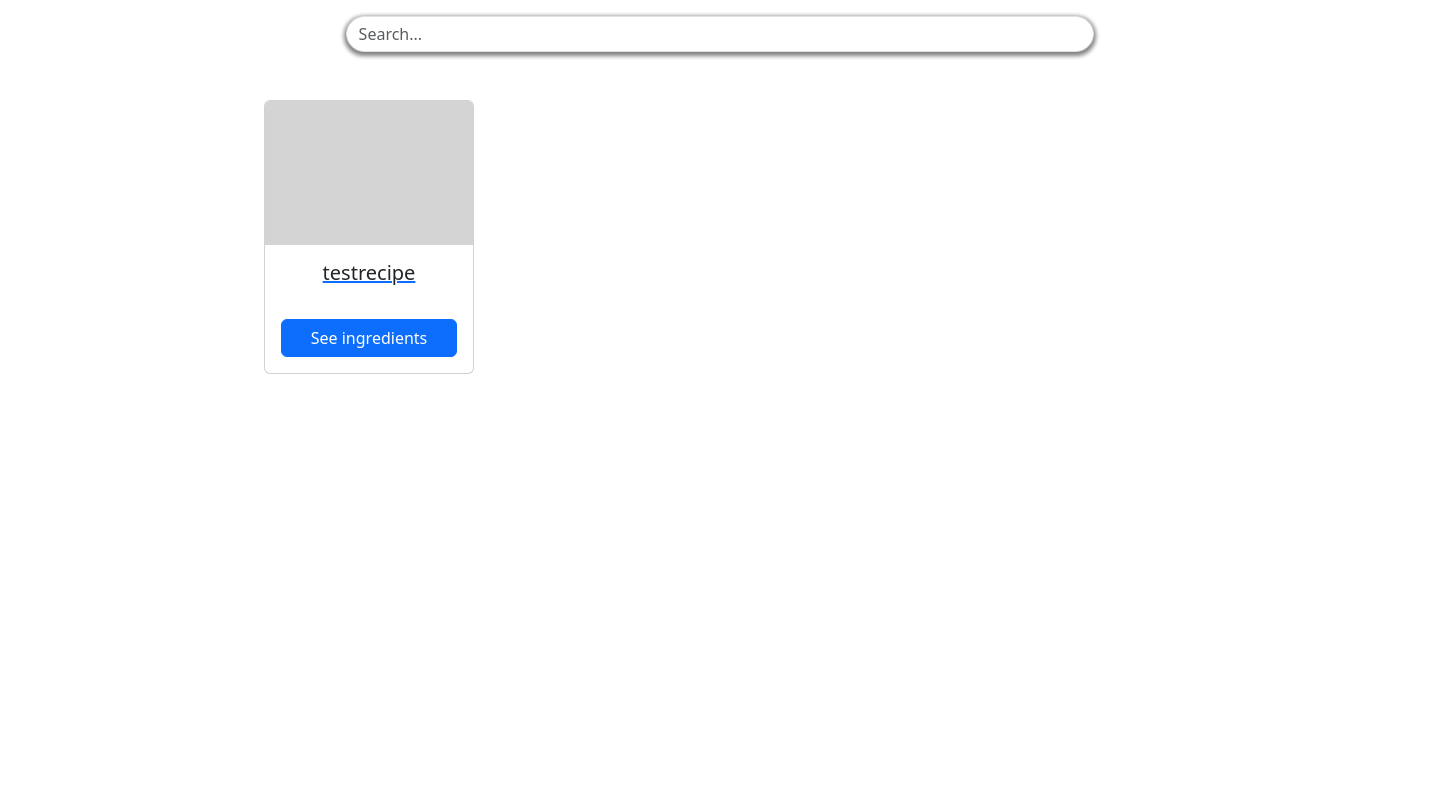
Test: Pressing See Ingredients should display the list of ingredients.
The image size is (1452, 810).
Click the button "See ingredients".
click(369, 338)  # box [281,319,457,357]
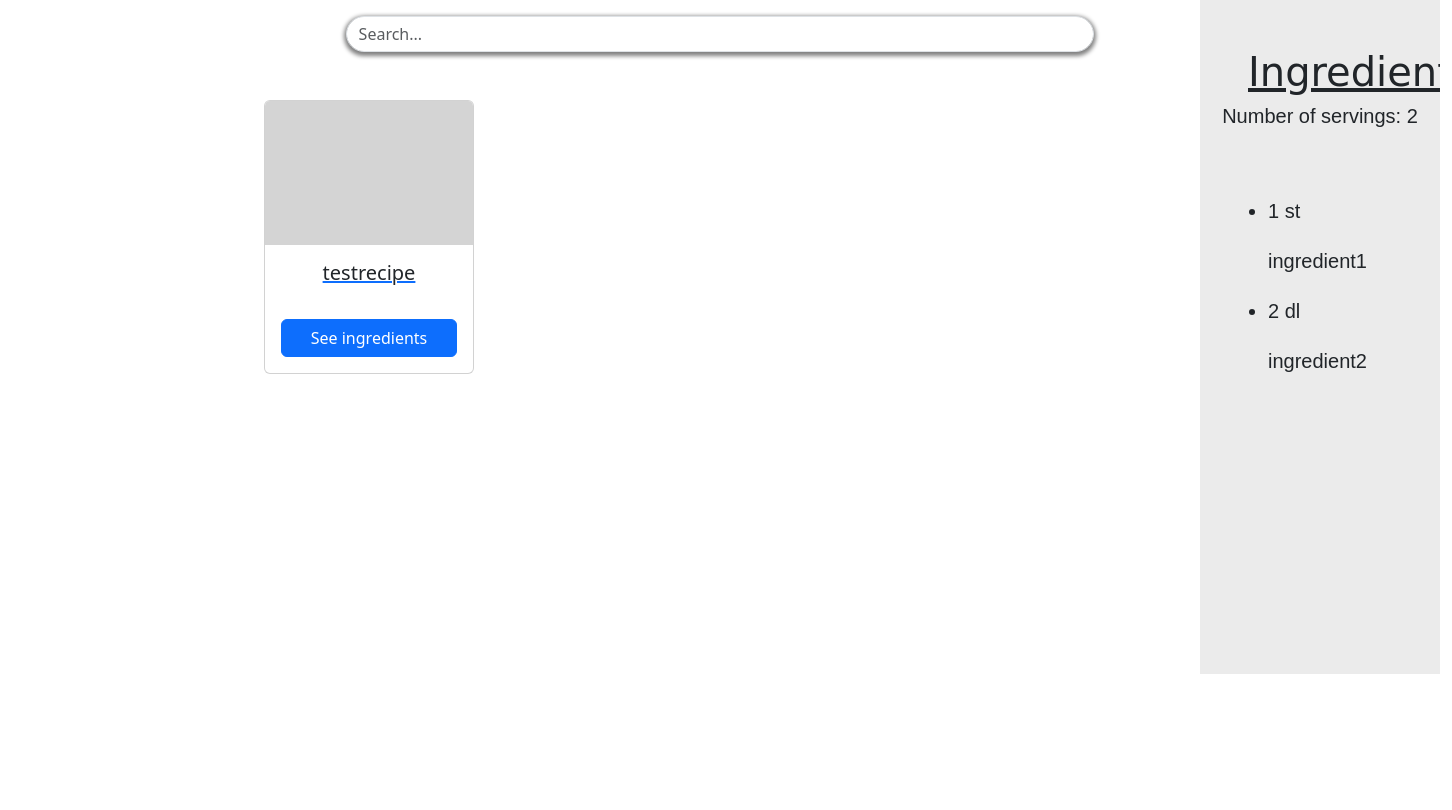
Result: the heading "Number of servings: 2" is shown at [1222,105,1418,127]
Result: the list item "1 st ingredient1" is shown at [1268,200,1367,272]
Result: the list item "2 dl ingredient2" is shown at [1268,300,1367,372]
